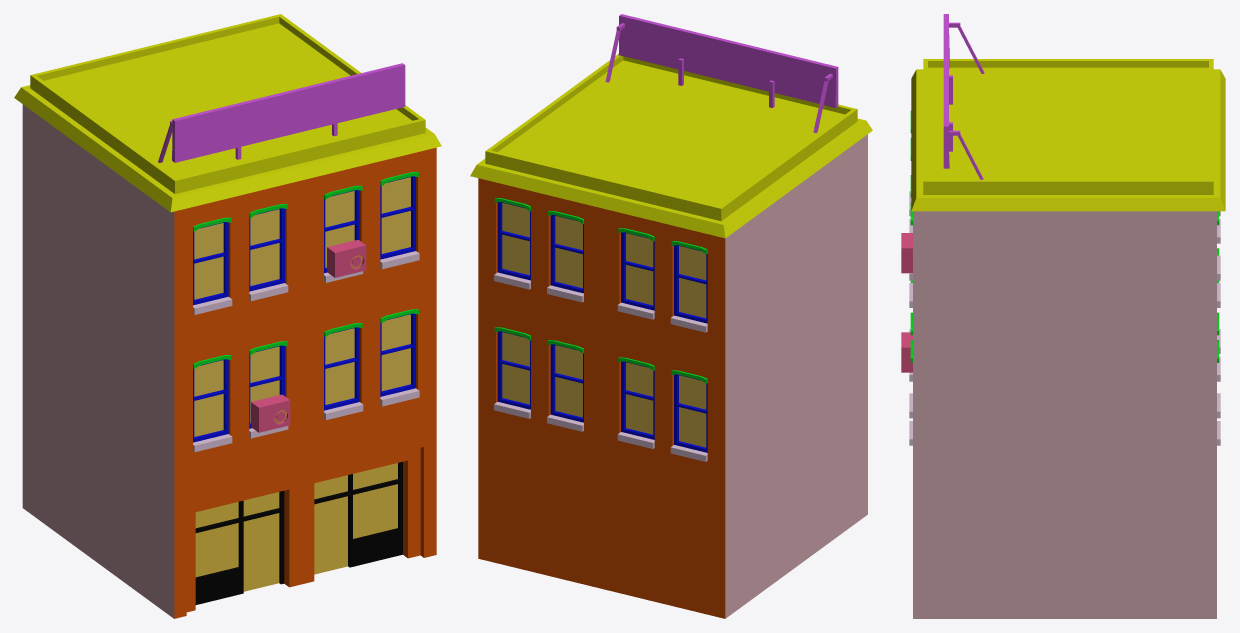
File: Building9.fbx
The picture shows the model from 3 angles, left to right: view 1: azimuth 30°, elevation 25°; view 2: azimuth 150°, elevation 25°; view 3: azimuth 270°, elevation 25°; orthographic projection. The views are drawn at different scales.
Visible parts, largest first — view 1: Building 9; view 2: Building 9; view 3: Building 9.
Boxes of the visible parts, bbox=[...] form: Building 9: bbox=[14, 14, 441, 618]; Building 9: bbox=[470, 14, 872, 618]; Building 9: bbox=[901, 14, 1225, 618].
Bounding box in the file's own units: 82715 × 140644 × 85300.
